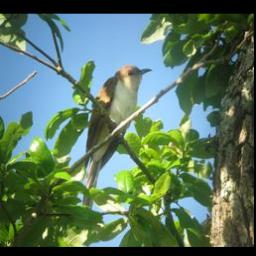Cuckoo: (79, 63, 156, 215)
